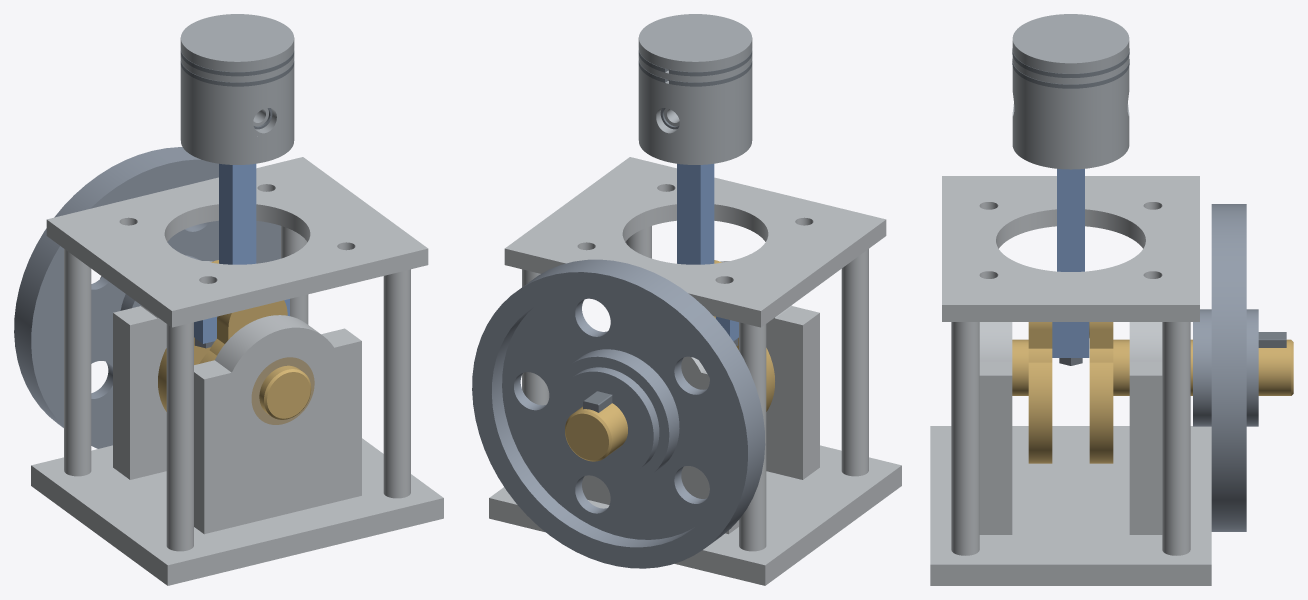
Rendered from step_34.glb.
3 renders of one model, left to right at view 1: azimuth 30°, elevation 25°; view 2: azimuth 150°, elevation 25°; view 3: azimuth 270°, elevation 25°, orthographic. The views are drawn at different scales.
Parts seen in each view (by area): view 1: part__crankcase frame, part__flywheel, part__piston, part__crankshaft, part__connecting rod, part__main bush 2, part__piston ring 2, part__piston ring 1; view 2: part__flywheel, part__crankcase frame, part__piston, part__connecting rod, part__crankshaft, part__piston ring 2, part__piston ring 1; view 3: part__crankcase frame, part__piston, part__flywheel, part__crankshaft, part__connecting rod, part__big end cap, part__piston ring 2, part__piston ring 1.
Part boxes in pixels (x1,y1,x2,y2): part__crankcase frame: (31,157,443,585); part__flywheel: (14,147,280,448); part__piston: (180,14,294,164); part__crankshaft: (158,260,311,419); part__connecting rod: (200,163,289,323); part__main bush 2: (251,357,314,424); part__piston ring 2: (180,58,294,86); part__piston ring 1: (180,48,294,76); part__flywheel: (472,259,765,568); part__crankcase frame: (489,157,901,585); part__piston: (638,14,752,164); part__connecting rod: (677,163,732,323); part__crankshaft: (565,260,774,461); part__piston ring 2: (638,58,752,86); part__piston ring 1: (638,48,752,76); part__crankcase frame: (930,176,1211,585); part__piston: (1012,14,1129,169); part__flywheel: (1193,204,1258,531); part__crankshaft: (1012,322,1293,463); part__connecting rod: (1052,168,1089,336); part__big end cap: (1052,336,1089,357); part__piston ring 2: (1012,59,1129,88); part__piston ring 1: (1012,48,1129,77).
Size of the model in its own units: 140 by 225 by 155.
